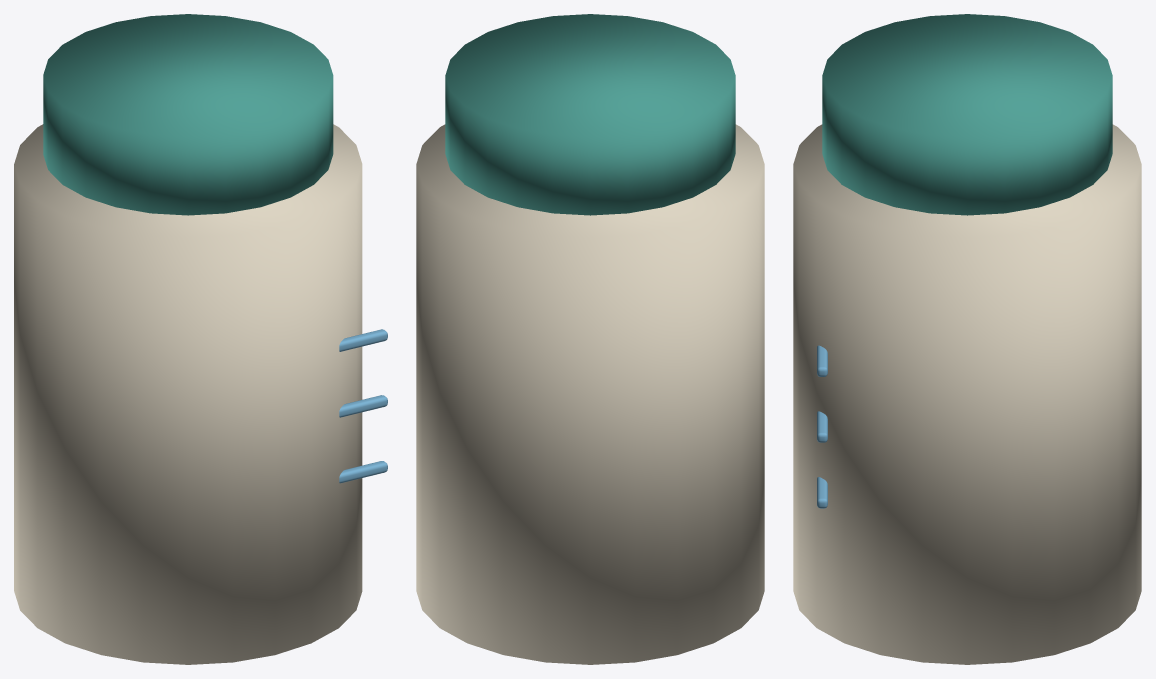
The model's file is word-milk.glb.
3 renders of one model, left to right at view 1: azimuth 30°, elevation 25°; view 2: azimuth 150°, elevation 25°; view 3: azimuth 270°, elevation 25°, orthographic.
Parts seen in each view (by area): view 1: milk bottle, bottle cap, bottle measure.002, bottle measure.001, bottle measure; view 2: milk bottle, bottle cap; view 3: milk bottle, bottle cap.
Part boxes in pixels (box(x1,y1,x2,y2)): milk bottle: box(14, 124, 362, 664); bottle cap: box(43, 14, 333, 215); bottle measure.002: box(339, 329, 387, 351); bottle measure.001: box(339, 395, 387, 417); bottle measure: box(339, 461, 387, 483); milk bottle: box(416, 124, 764, 664); bottle cap: box(445, 14, 735, 215); milk bottle: box(793, 124, 1141, 664); bottle cap: box(822, 14, 1112, 215).
Size of the model in its own units: 0.48 by 0.785 by 0.48.
